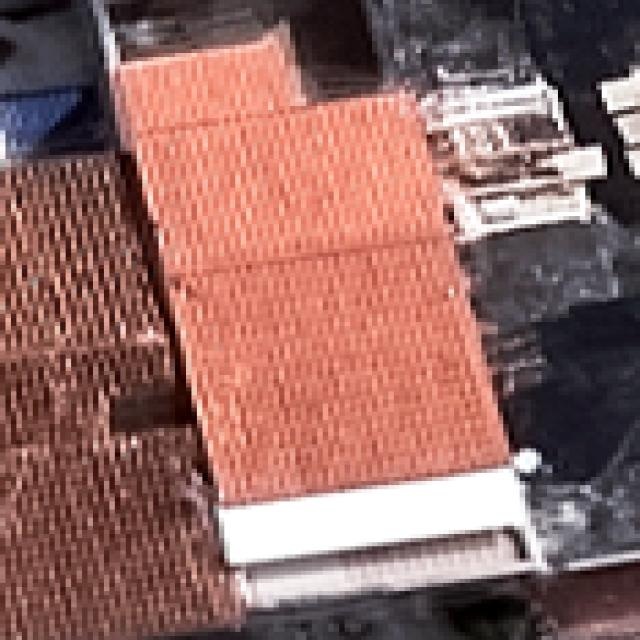Batiment: (119, 32, 508, 503), (2, 152, 240, 639)
